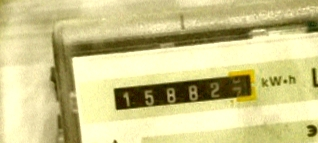1: (122, 90, 133, 109)
2: (209, 81, 222, 98)
5: (143, 89, 156, 106)
7: (232, 85, 244, 99)
8: (166, 86, 178, 104), (188, 84, 200, 101)
screen: (107, 67, 264, 116)
